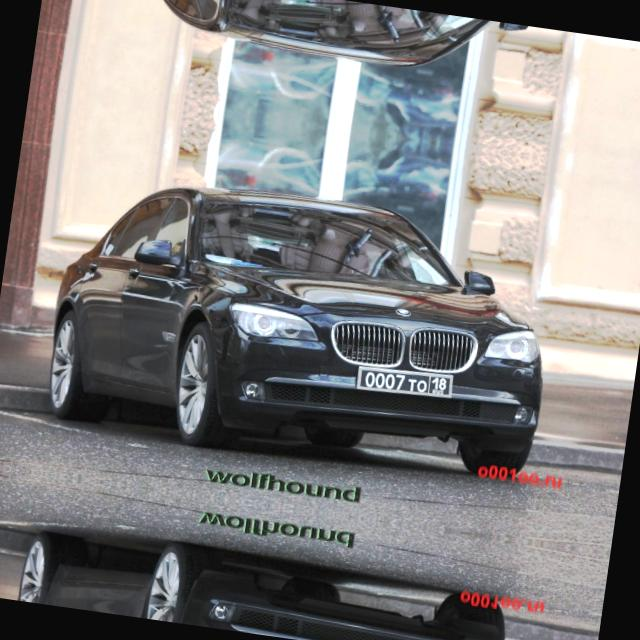military: (356, 360, 452, 405)
